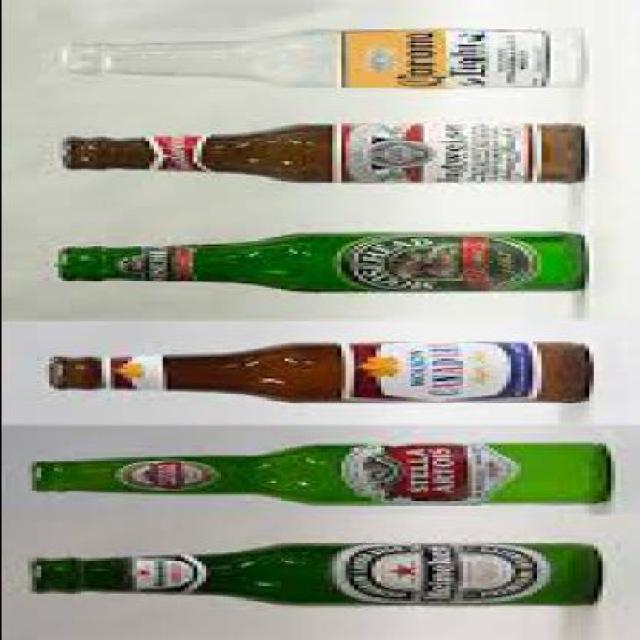GLASS: (27, 543, 596, 611), (26, 444, 605, 505), (44, 344, 584, 407), (56, 26, 579, 91), (56, 234, 579, 294), (61, 124, 579, 184)
